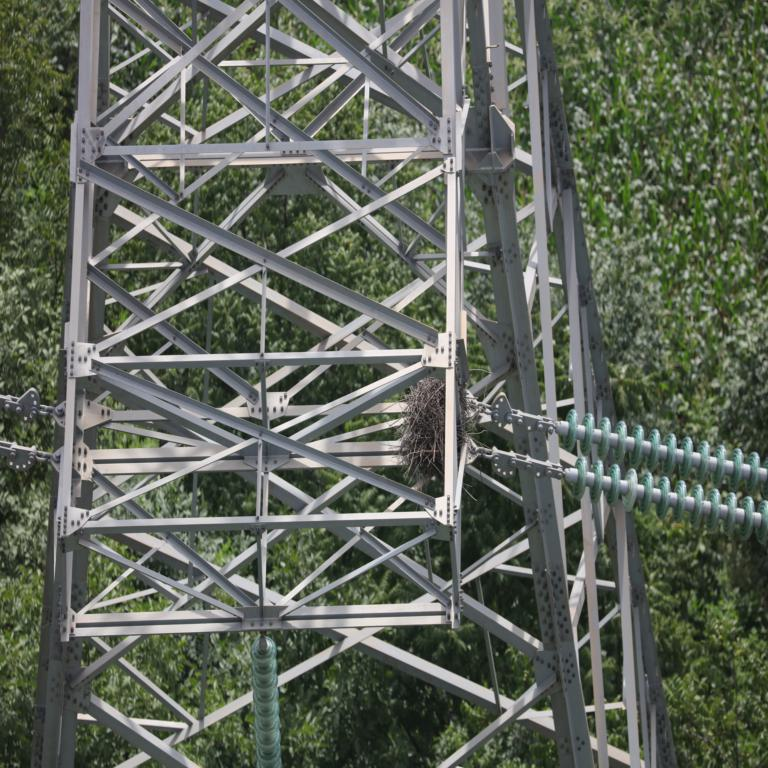nest: (404, 383, 464, 471)
